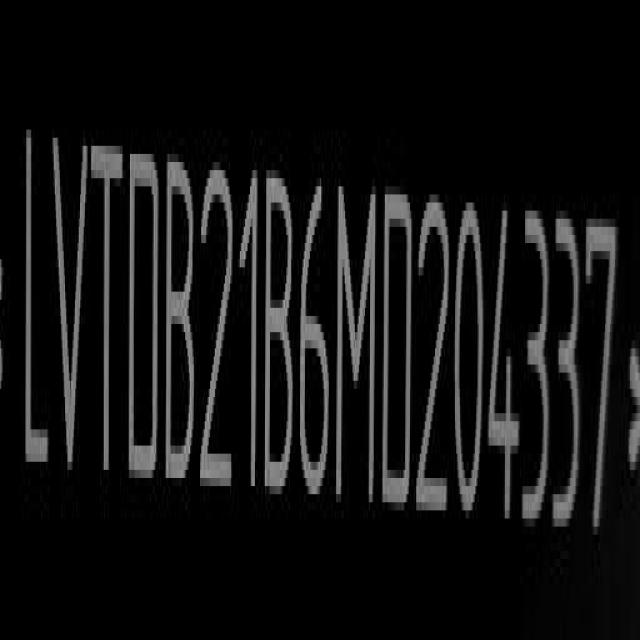0: (456, 199, 486, 524)
1: (238, 162, 258, 502)
2: (203, 163, 236, 503), (418, 189, 451, 524)
3: (524, 208, 551, 534), (557, 214, 584, 538)
4: (490, 200, 522, 532)
6: (300, 172, 333, 499)
7: (591, 216, 620, 544)
B: (165, 150, 199, 488), (264, 167, 296, 496)
D: (384, 184, 417, 518), (130, 145, 162, 487)
L: (19, 123, 50, 486)
M: (339, 176, 379, 506)
T: (94, 134, 125, 487)
V: (49, 126, 88, 486)
